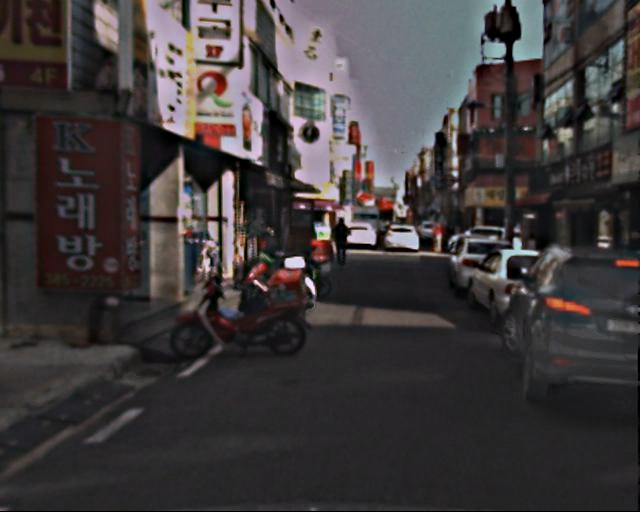person: (334, 218, 356, 272), (431, 222, 451, 255)
